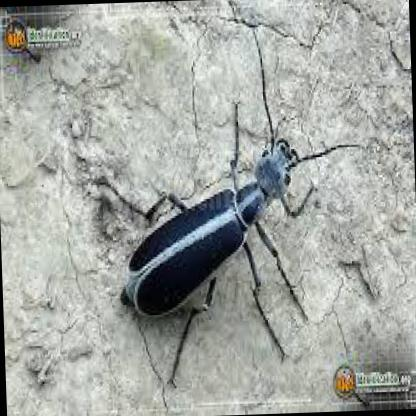blister beetle: (120, 140, 306, 322)
